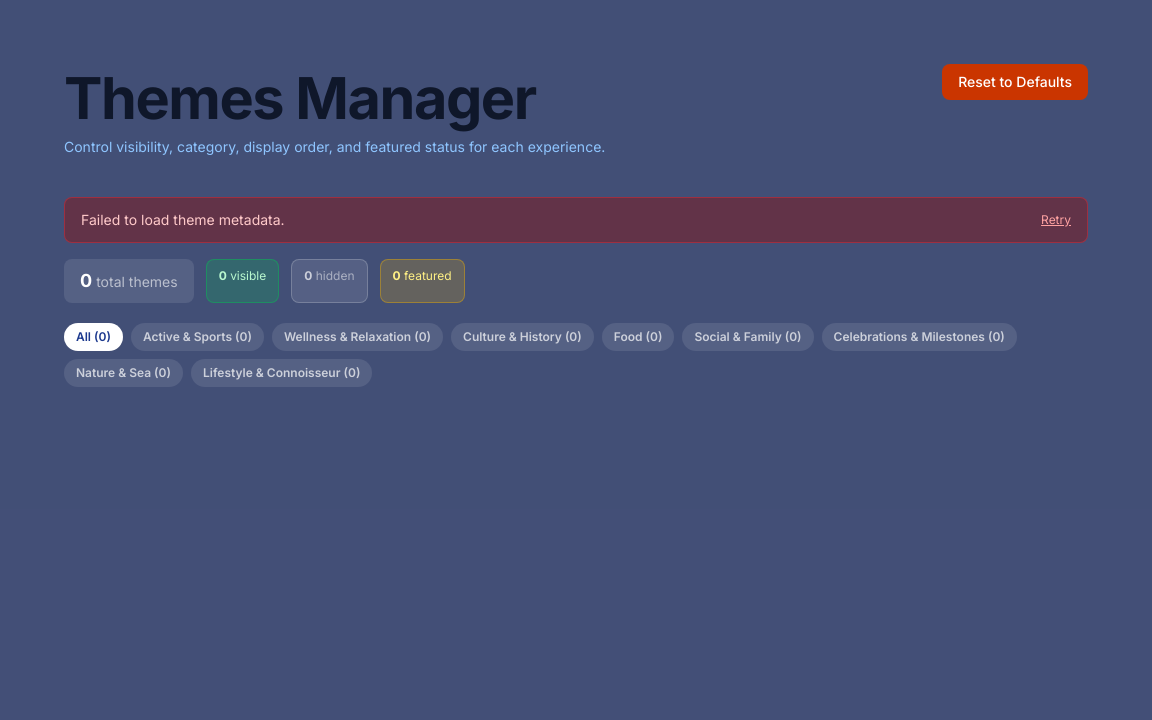
it: ThemesAdminClient — error handling › Retry button clears error and re-fetches
The width and height of the screenshot is (1152, 720).
Click the button "Retry".
click(1056, 220)  # box [1041, 212, 1071, 228]
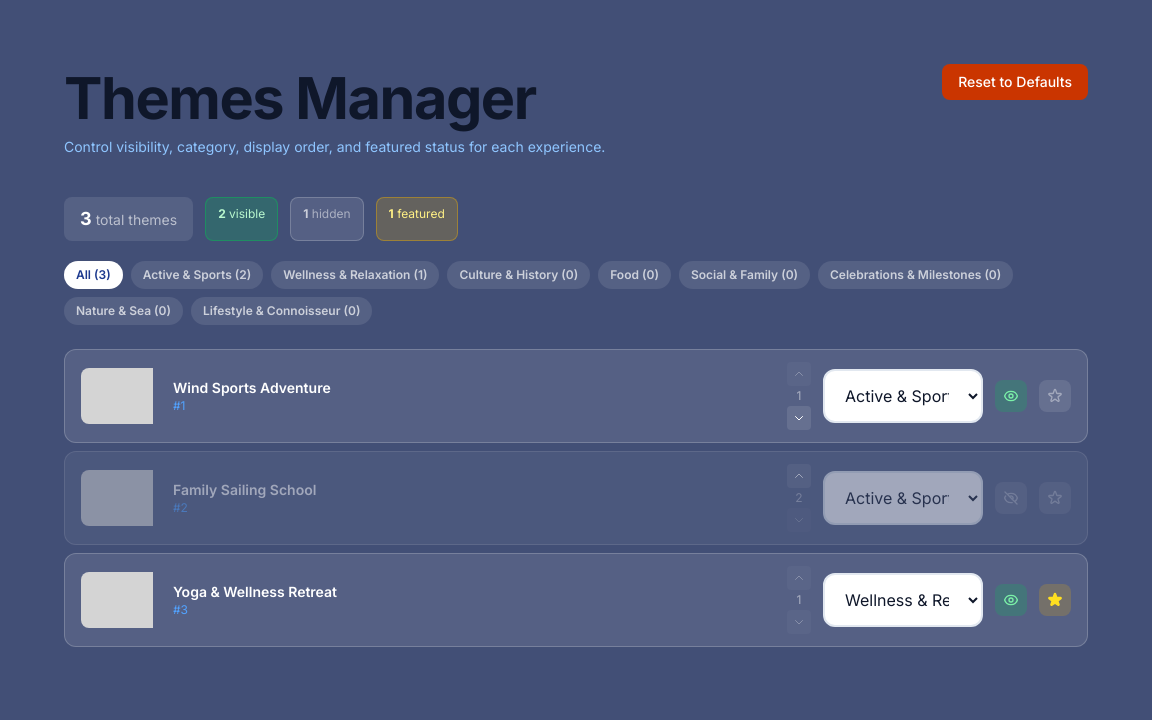
Now the text "Failed to load" is gone
Now the text "Wind Sports Adventure" is shown, box [173, 379, 331, 396]
